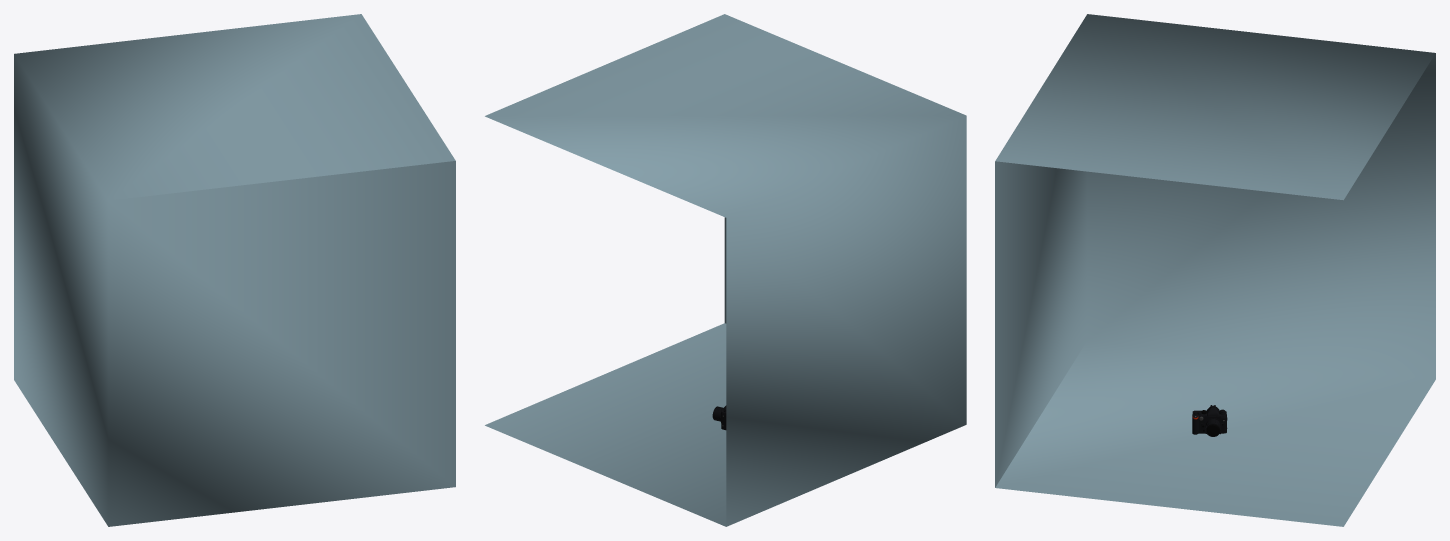
Rendered from camera.glb.
The picture shows the model from 3 angles, left to right: view 1: azimuth 30°, elevation 25°; view 2: azimuth 150°, elevation 25°; view 3: azimuth 270°, elevation 25°; orthographic projection. The views are drawn at different scales.
Visible parts, largest first — view 1: Cube; view 2: Cube; view 3: Cube.
Part boxes in pixels (x1,y1,x2,y2): Cube: (14,14,455,526); Cube: (485,14,966,526); Cube: (995,14,1435,526).
Size of the model in its own units: 18.81 by 15.39 by 18.81.
